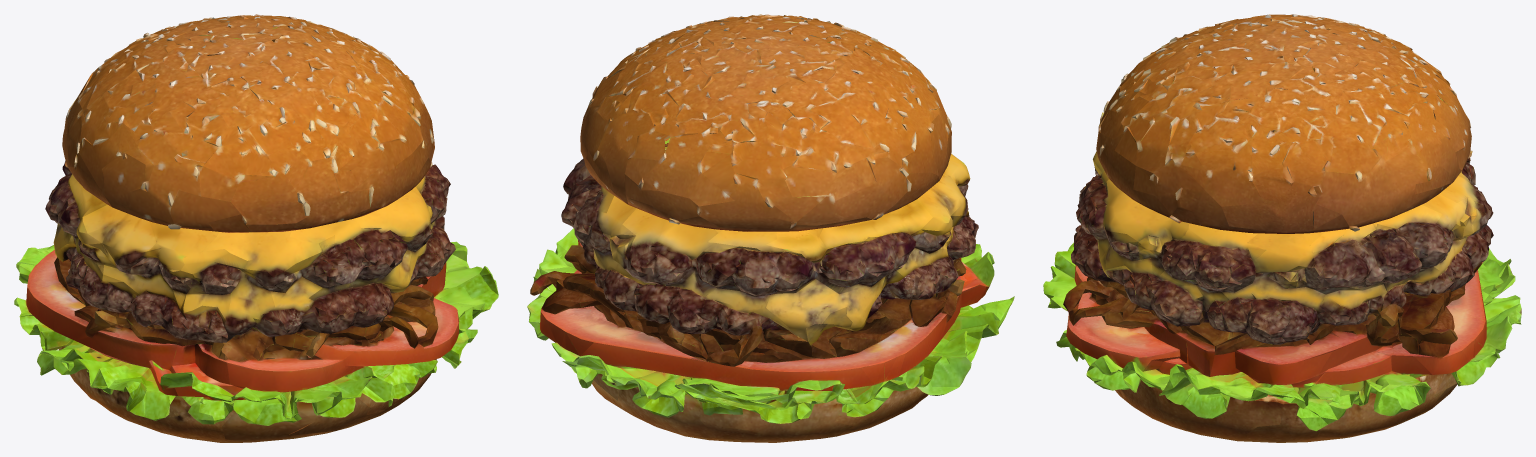
File: burger.glb
3 views of the same model, side by side, from view 1: azimuth 30°, elevation 25°; view 2: azimuth 150°, elevation 25°; view 3: azimuth 270°, elevation 25° (orthographic).
Bounding box in the file's own units: 1.89 × 1.46 × 1.88.
Materials: 1 (1 with a texture image).
